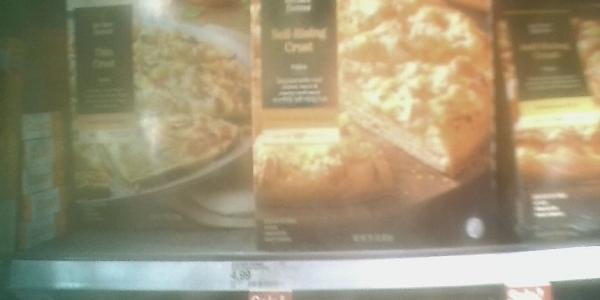pizza1: (252, 1, 505, 249), (68, 1, 257, 228)
